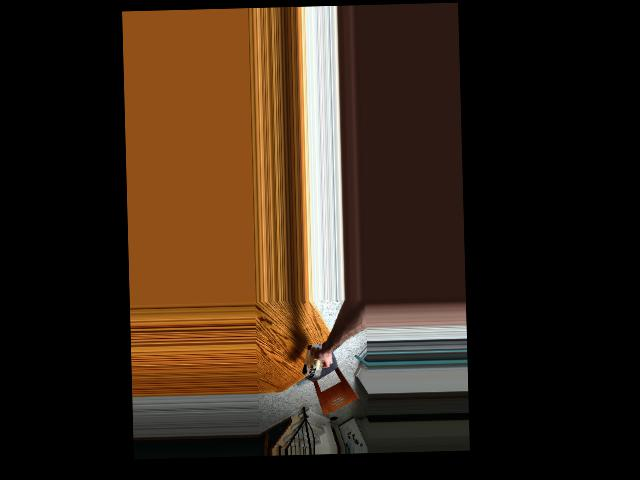cheese: (301, 343, 325, 376)
